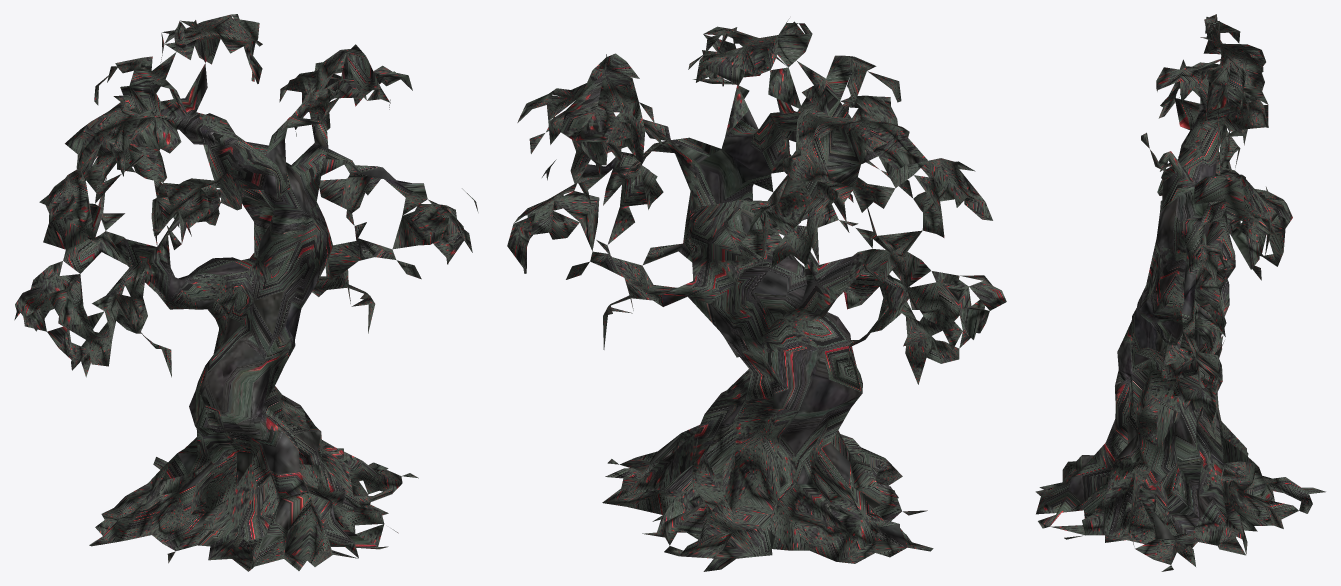
File: gnarled-tree.glb
The picture shows the model from 3 angles, left to right: view 1: azimuth 30°, elevation 25°; view 2: azimuth 150°, elevation 25°; view 3: azimuth 270°, elevation 25°; orthographic projection. The views are drawn at different scales.
Size of the model in its own units: 1.84 by 1.89 by 1.09.
Materials: 1 (1 with a texture image).
